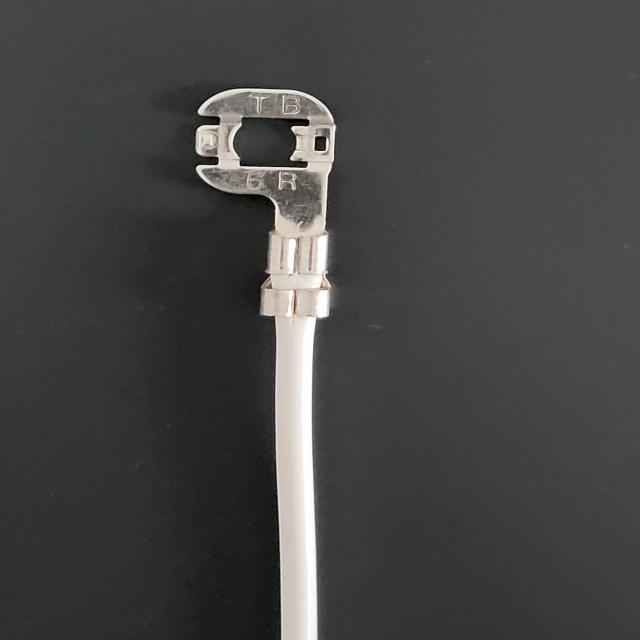defect: (237, 214, 388, 340)
